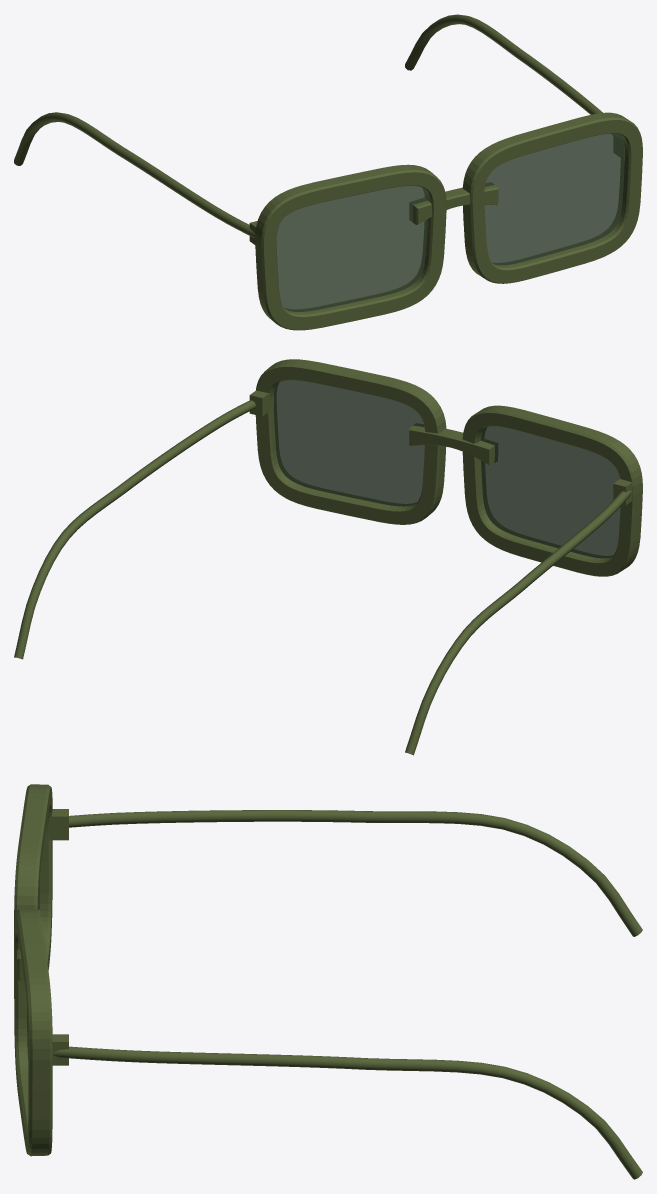
File: NY-S06_Palm_Olive_G_15_green_lens.glb
3 views of the same model, one above another, from view 1: azimuth 30°, elevation 25°; view 2: azimuth 150°, elevation 25°; view 3: azimuth 270°, elevation 25° (orthographic). The views are drawn at different scales.
Visible parts, largest first — view 1: Palm_Olive_G_15_green_lens_Acetate, Palm_Olive_G_15_green_lens_Lenses; view 2: Palm_Olive_G_15_green_lens_Acetate, Palm_Olive_G_15_green_lens_Lenses; view 3: Palm_Olive_G_15_green_lens_Acetate.
Part boxes in pixels (<box>): Palm_Olive_G_15_green_lens_Acetate: <box>14,14,642,330</box>; Palm_Olive_G_15_green_lens_Lenses: <box>276,133,624,311</box>; Palm_Olive_G_15_green_lens_Acetate: <box>14,359,642,755</box>; Palm_Olive_G_15_green_lens_Lenses: <box>273,380,620,558</box>; Palm_Olive_G_15_green_lens_Acetate: <box>14,784,642,1179</box>.
Bounding box in the file's own units: 0.1523 × 0.0501 × 0.1594.
